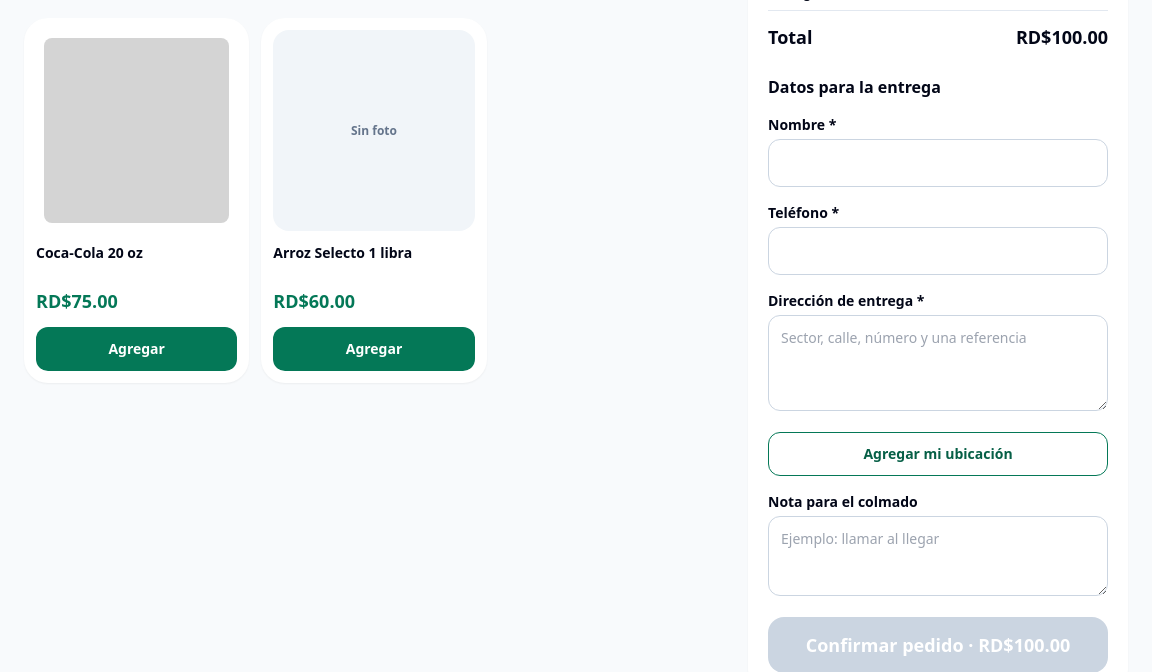
Test: PublicStorefrontPage › adds products to the cart and explains the minimum order
(page scrolled)
Click the button "Agregar" below "RD$75.00": x=137, y=349 top-left (36, 327), bottom-right (237, 371)
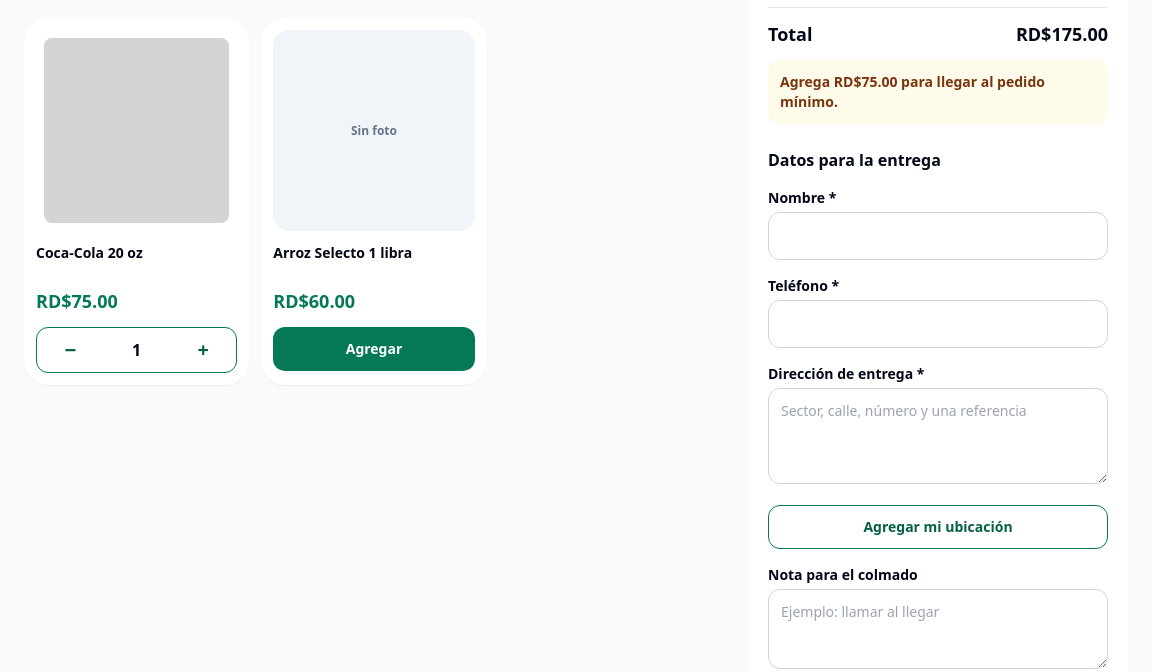
Now the text "Agrega RD$75.00 para llegar al pedido mínimo." is shown, box top-left (768, 60), bottom-right (1108, 124)
Click the button named "Agregar Coca-Cola 20 oz": x=203, y=350 top-left (170, 328), bottom-right (236, 372)
(page scrolled)
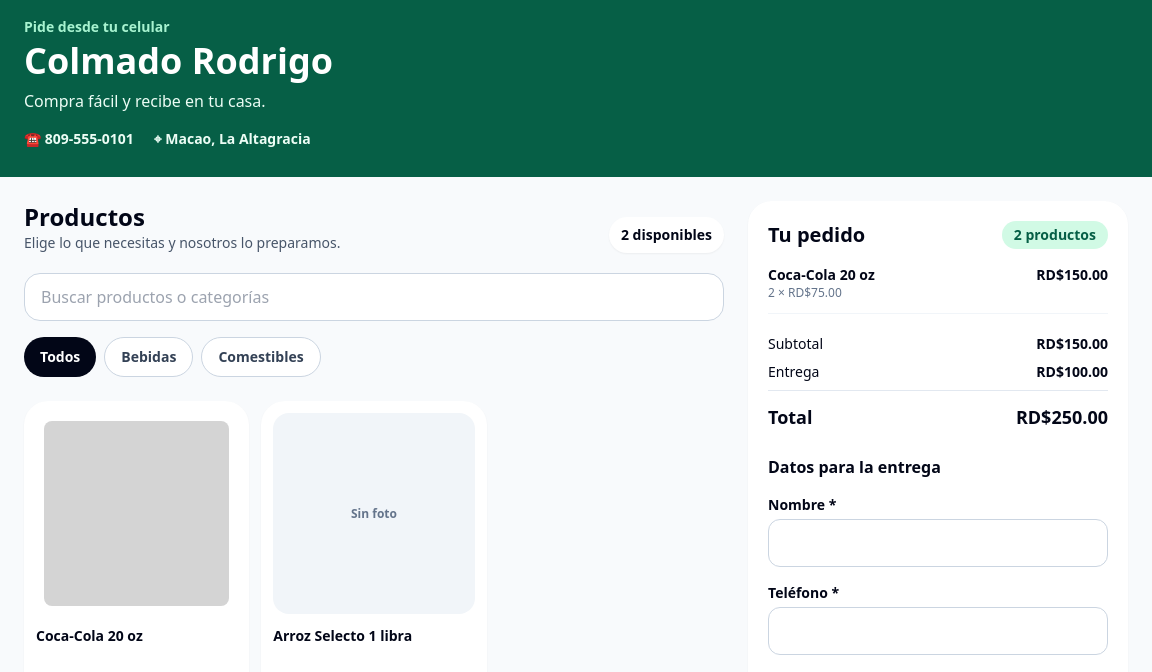
Now the text "para llegar al pedido mínimo" is gone
Now the text "2 productos" is shown, box top-left (1002, 221), bottom-right (1108, 249)
